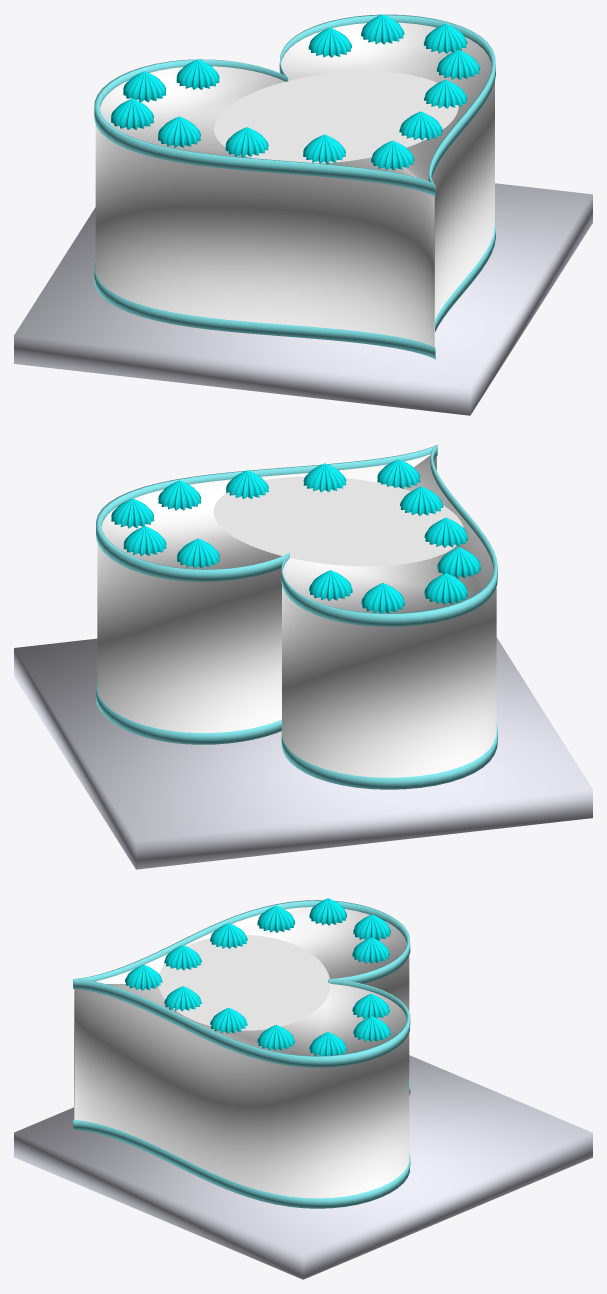
Rendered from heart_vanilla_style1.glb.
The picture shows the model from 3 angles, top to bottom: view 1: azimuth 30°, elevation 25°; view 2: azimuth 150°, elevation 25°; view 3: azimuth 270°, elevation 25°; orthographic projection. The views are drawn at different scales.
Parts seen in each view (by area): view 1: HeartCake, IcingStand, CakeTopCircle, IcingRing, IcingRing.001, design12, design9, design10, design11, design8, design2, design15 (+6 smaller); view 2: HeartCake, IcingStand, CakeTopCircle, IcingRing, IcingRing.001, design12, design10, design9, design11, design8, design3, design4 (+6 smaller); view 3: HeartCake, IcingStand, CakeTopCircle, IcingRing, IcingRing.001, design12, design9, design11, design10, design4, design2, design15 (+6 smaller).
Part boxes in pixels (<box>): HeartCake: <box>95,22,494,347</box>; IcingStand: <box>14,183,592,415</box>; CakeTopCircle: <box>214,71,458,163</box>; IcingRing: <box>94,14,495,196</box>; IcingRing.001: <box>94,219,495,359</box>; design12: <box>111,98,153,129</box>; design9: <box>158,116,200,147</box>; design10: <box>123,71,165,102</box>; design11: <box>176,59,219,89</box>; design8: <box>225,127,268,157</box>; design2: <box>371,140,414,170</box>; design15: <box>361,14,404,44</box>; HeartCake: <box>97,454,496,777</box>; IcingStand: <box>14,637,592,869</box>; CakeTopCircle: <box>213,476,463,566</box>; IcingRing: <box>96,444,497,626</box>; IcingRing.001: <box>96,680,497,789</box>; design12: <box>424,573,467,604</box>; design10: <box>361,583,404,613</box>; design9: <box>437,547,480,578</box>; design11: <box>309,570,352,600</box>; design8: <box>424,517,467,547</box>; design3: <box>111,498,154,528</box>; design4: <box>158,480,201,510</box>; HeartCake: <box>74,907,409,1198</box>; IcingStand: <box>14,1055,592,1279</box>; CakeTopCircle: <box>158,935,330,1030</box>; IcingRing: <box>73,900,410,1067</box>; IcingRing.001: <box>73,1077,410,1208</box>; design12: <box>309,898,346,925</box>; design9: <box>257,905,294,932</box>; design11: <box>352,937,389,963</box>; design10: <box>353,914,390,940</box>; design4: <box>257,1024,294,1050</box>; design2: <box>125,964,162,990</box>; design15: <box>353,1016,390,1041</box>.
Size of the model in its own units: 4.24 by 1.56 by 4.24.
